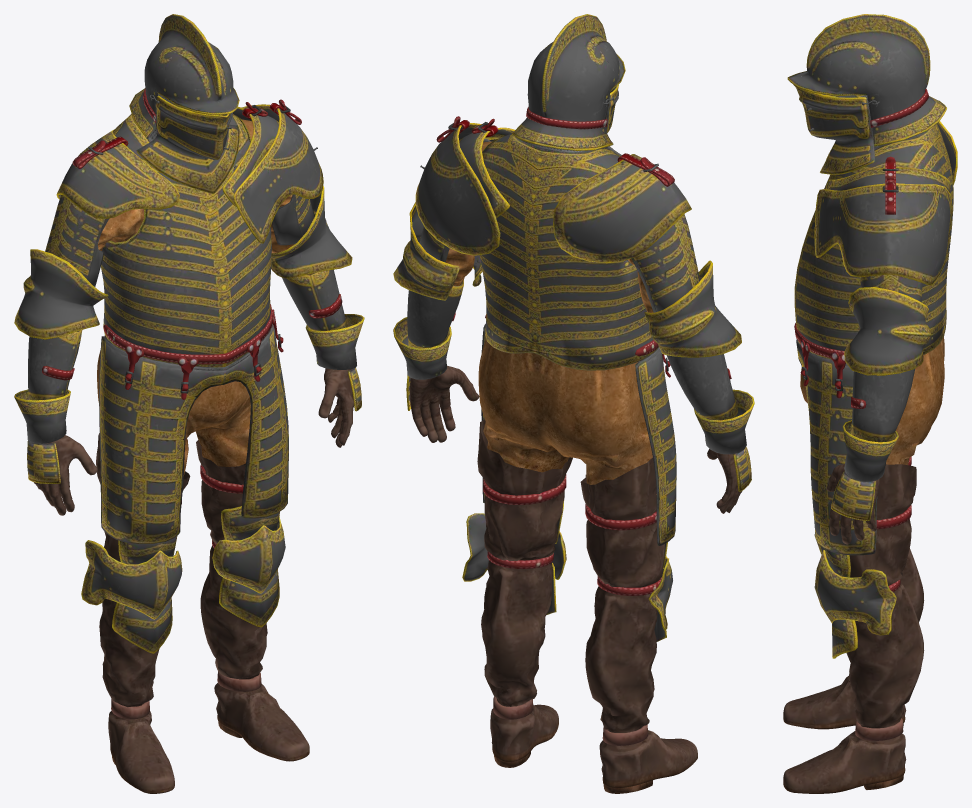
File: golden_king.glb
The picture shows the model from 3 angles, left to right: view 1: azimuth 30°, elevation 25°; view 2: azimuth 150°, elevation 25°; view 3: azimuth 270°, elevation 25°; orthographic projection. The views are drawn at different scales.
Visible parts, largest first — view 1: outfit; view 2: outfit; view 3: outfit.
Boxes of the visible parts, x1=… form: outfit: x1=14, y1=14, x2=364, y2=793; outfit: x1=393, y1=14, x2=754, y2=793; outfit: x1=783, y1=14, x2=957, y2=793.
Bounding box in the file's own units: 0.8923 × 1.8 × 0.3854.
Materials: 1 (1 with a texture image).
